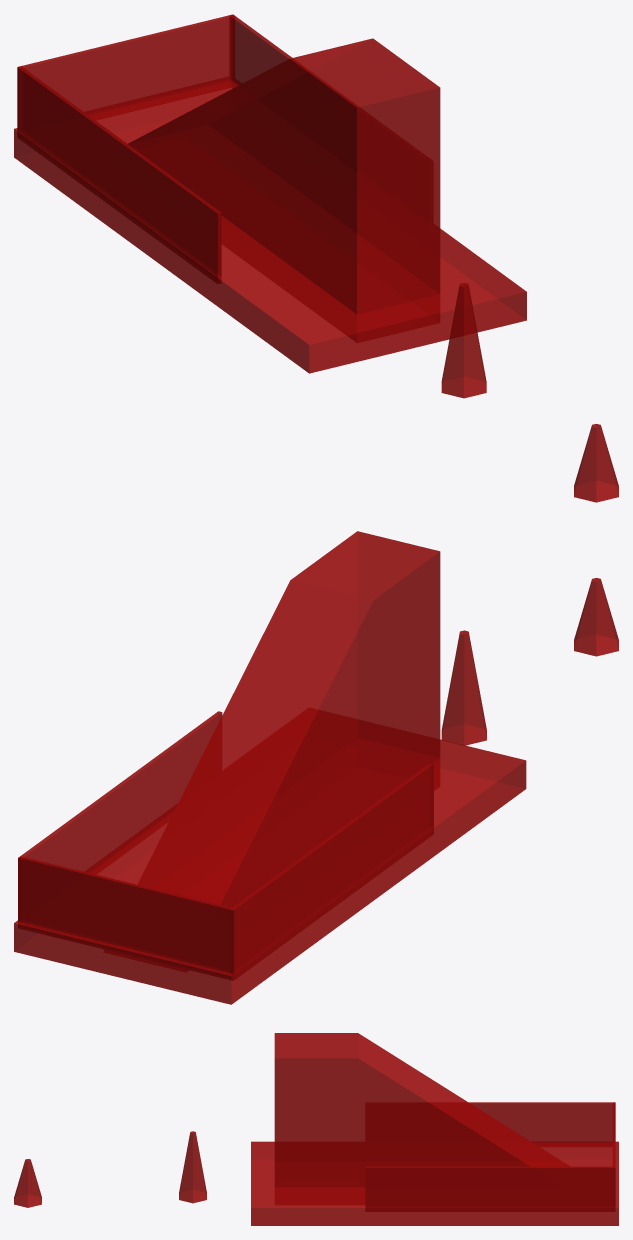
The model's file is SM_Prop_Pipline_OilPump_01_Collision.fbx.
The picture shows the model from 3 angles, top to bottom: view 1: azimuth 30°, elevation 25°; view 2: azimuth 150°, elevation 25°; view 3: azimuth 270°, elevation 25°; orthographic projection. The views are drawn at different scales.
Parts seen in each view (by area): view 1: SM_Prop_Pipline_OilPump_01_Collision; view 2: SM_Prop_Pipline_OilPump_01_Collision; view 3: SM_Prop_Pipline_OilPump_01_Collision.
Part boxes in pixels (bbox=[...]): SM_Prop_Pipline_OilPump_01_Collision: bbox=[14, 14, 618, 502]; SM_Prop_Pipline_OilPump_01_Collision: bbox=[14, 531, 618, 1004]; SM_Prop_Pipline_OilPump_01_Collision: bbox=[14, 1033, 618, 1225].
Size of the model in its own units: 375 by 410 by 1446.
